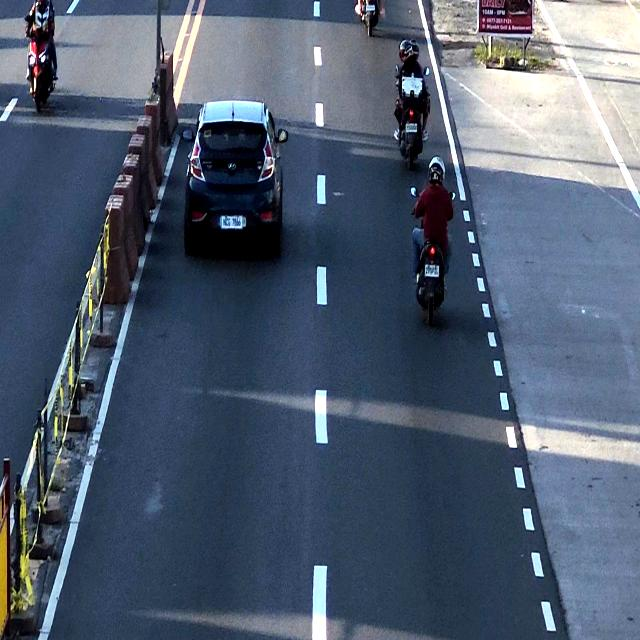Car: (186, 100, 280, 256)
License-Plate: (219, 212, 247, 232), (424, 263, 442, 281), (403, 121, 418, 135)
Motorcycle: (414, 158, 452, 322), (395, 38, 429, 155), (360, 0, 378, 41)
